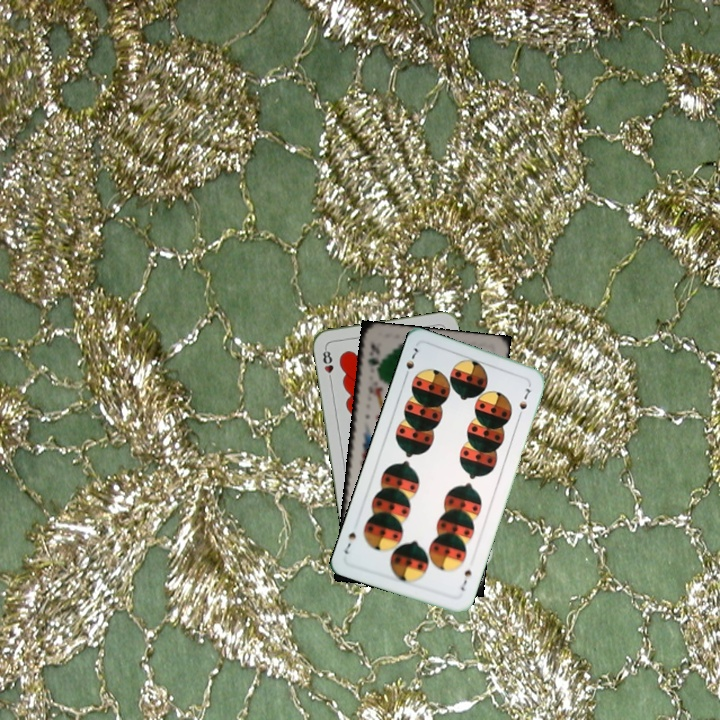GK: (363, 340, 382, 378)
H8: (319, 344, 336, 384)
S7: (400, 343, 421, 381), (456, 566, 474, 593)
